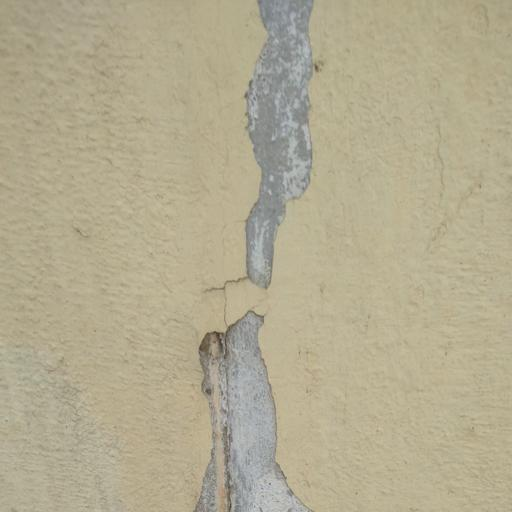peeling: (168, 0, 334, 512)
